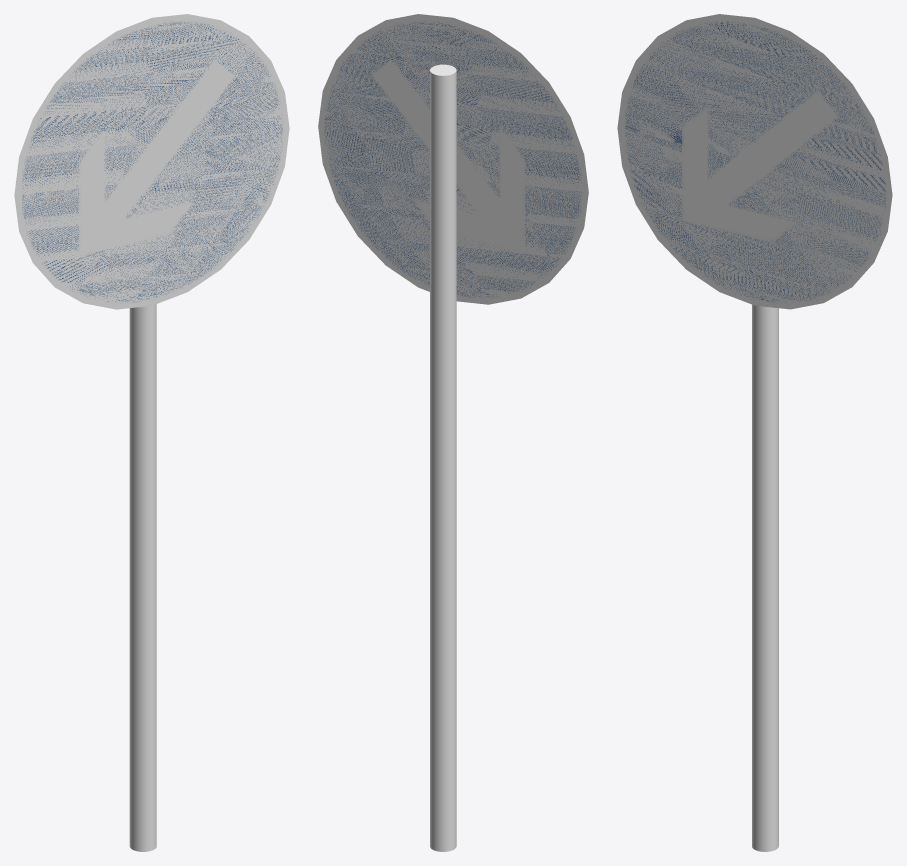
The picture shows the model from 3 angles, left to right: view 1: azimuth 30°, elevation 25°; view 2: azimuth 150°, elevation 25°; view 3: azimuth 330°, elevation 25°; orthographic projection.
Parts seen in each view (by area): view 1: SketchUp (×2); view 2: SketchUp (×2); view 3: SketchUp (×2).
Part boxes in pixels (box(x1,y1,x2,y2)): SketchUp (×2): box(14, 14, 289, 851); SketchUp (×2): box(318, 14, 588, 851); SketchUp (×2): box(617, 14, 892, 851).
Bounding box in the file's own units: 74.02 × 7.6 × 215.
Materials: 2 (1 with a texture image).
